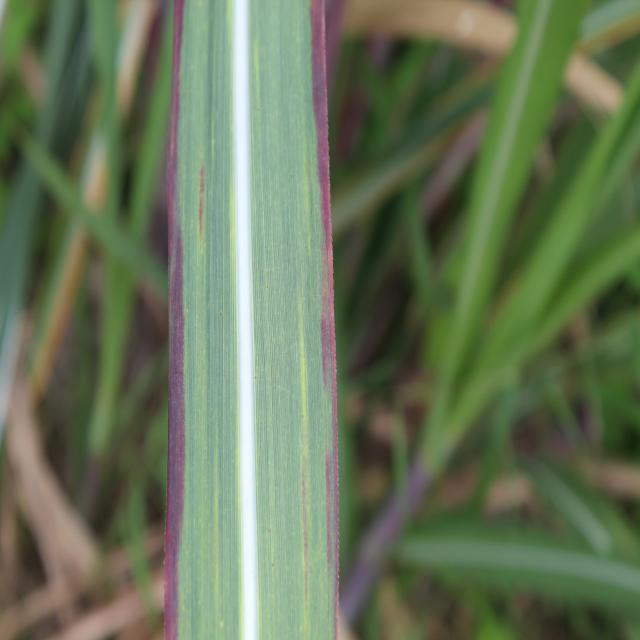Sugarcane: (163, 0, 340, 640)
